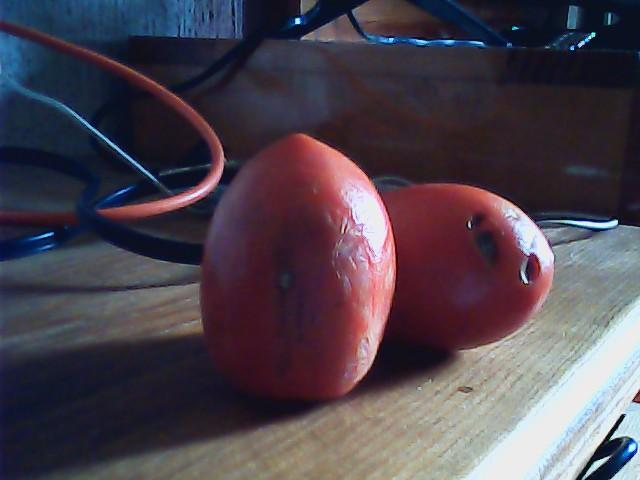defectuoso: (199, 130, 395, 399), (362, 186, 556, 359)
